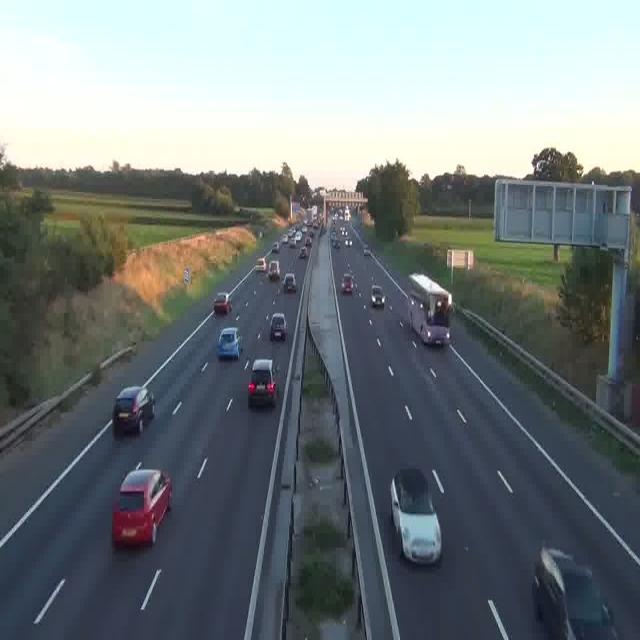car: (534, 546, 616, 640), (390, 466, 441, 564), (112, 468, 172, 546), (112, 386, 154, 436), (248, 357, 278, 408), (218, 324, 243, 358), (270, 312, 288, 340), (213, 292, 231, 314), (369, 286, 385, 308), (282, 274, 296, 293), (342, 273, 354, 294), (268, 260, 279, 278), (257, 258, 267, 272), (299, 246, 307, 259), (304, 236, 312, 249), (272, 242, 280, 253), (364, 243, 372, 254), (332, 237, 340, 248)
truck: (405, 272, 452, 345)
